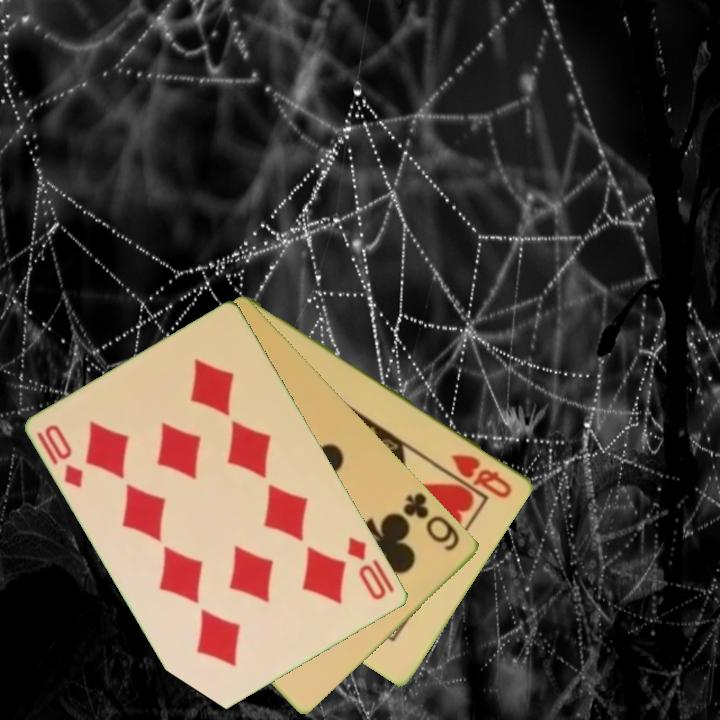10d: (344, 533, 398, 604), (41, 421, 87, 491)
6c: (400, 488, 464, 554)
Qh: (448, 450, 516, 501)
